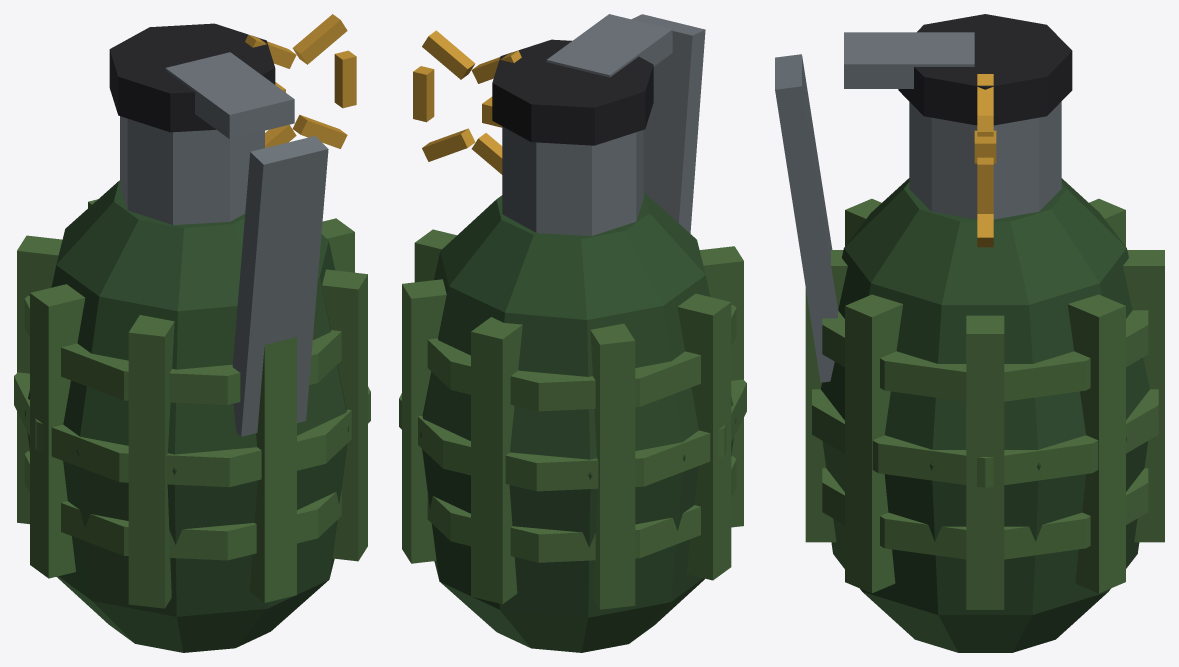
File: grenade.glb
The picture shows the model from 3 angles, left to right: view 1: azimuth 30°, elevation 25°; view 2: azimuth 150°, elevation 25°; view 3: azimuth 270°, elevation 25°; orthographic projection. The views are drawn at different scales.
Parts seen in each view (by area): view 1: grenade; view 2: grenade; view 3: grenade.
Part boxes in pixels (box(x1,y1,x2,y2)): grenade: box(14, 14, 370, 652); grenade: box(399, 14, 746, 652); grenade: box(775, 14, 1164, 652).
Bounding box in the file's own units: 0.068 × 0.1163 × 0.0717.
1 material, 1 textured.
